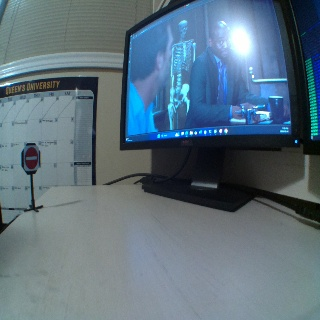sign_noentry: (23, 145, 41, 170)
